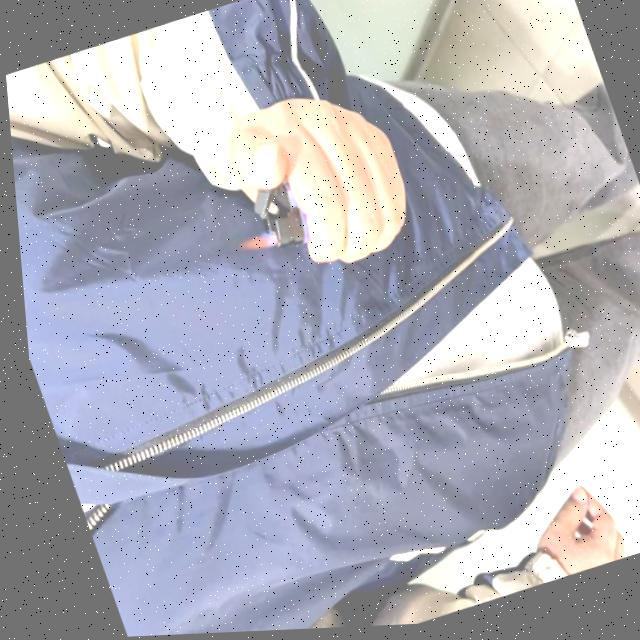Fire: (230, 230, 279, 261)
